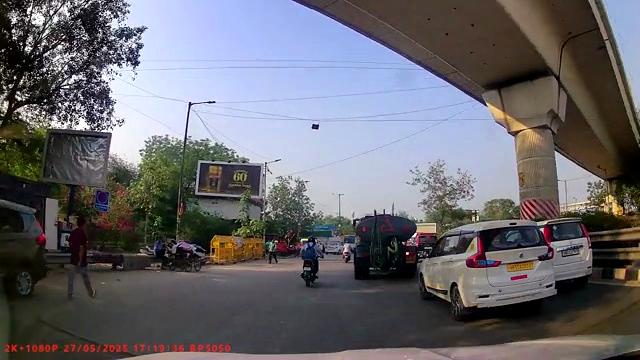motorcycle_with_helmet: (299, 235, 320, 287)
